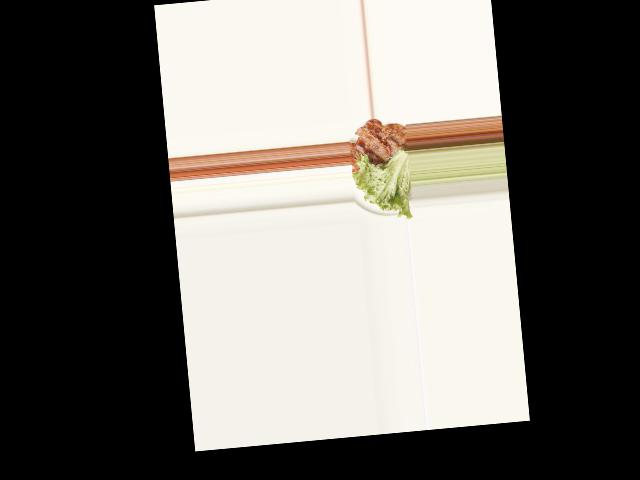lettuce: (352, 150, 414, 220)
